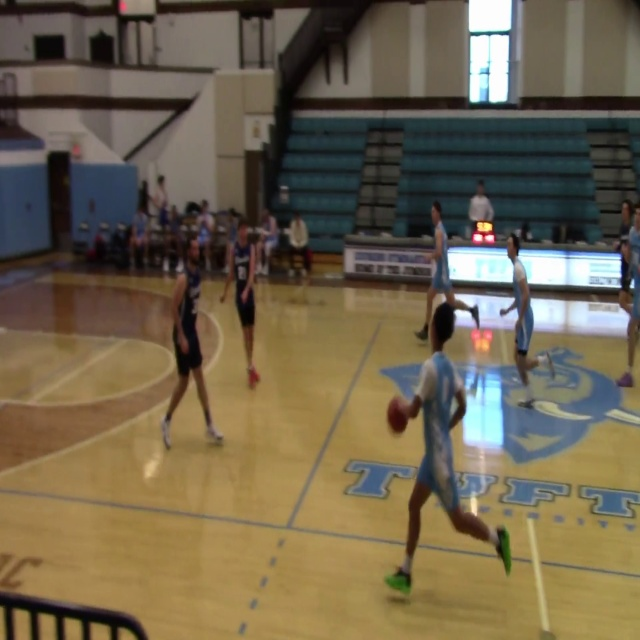Basketball: (387, 395, 409, 433)
